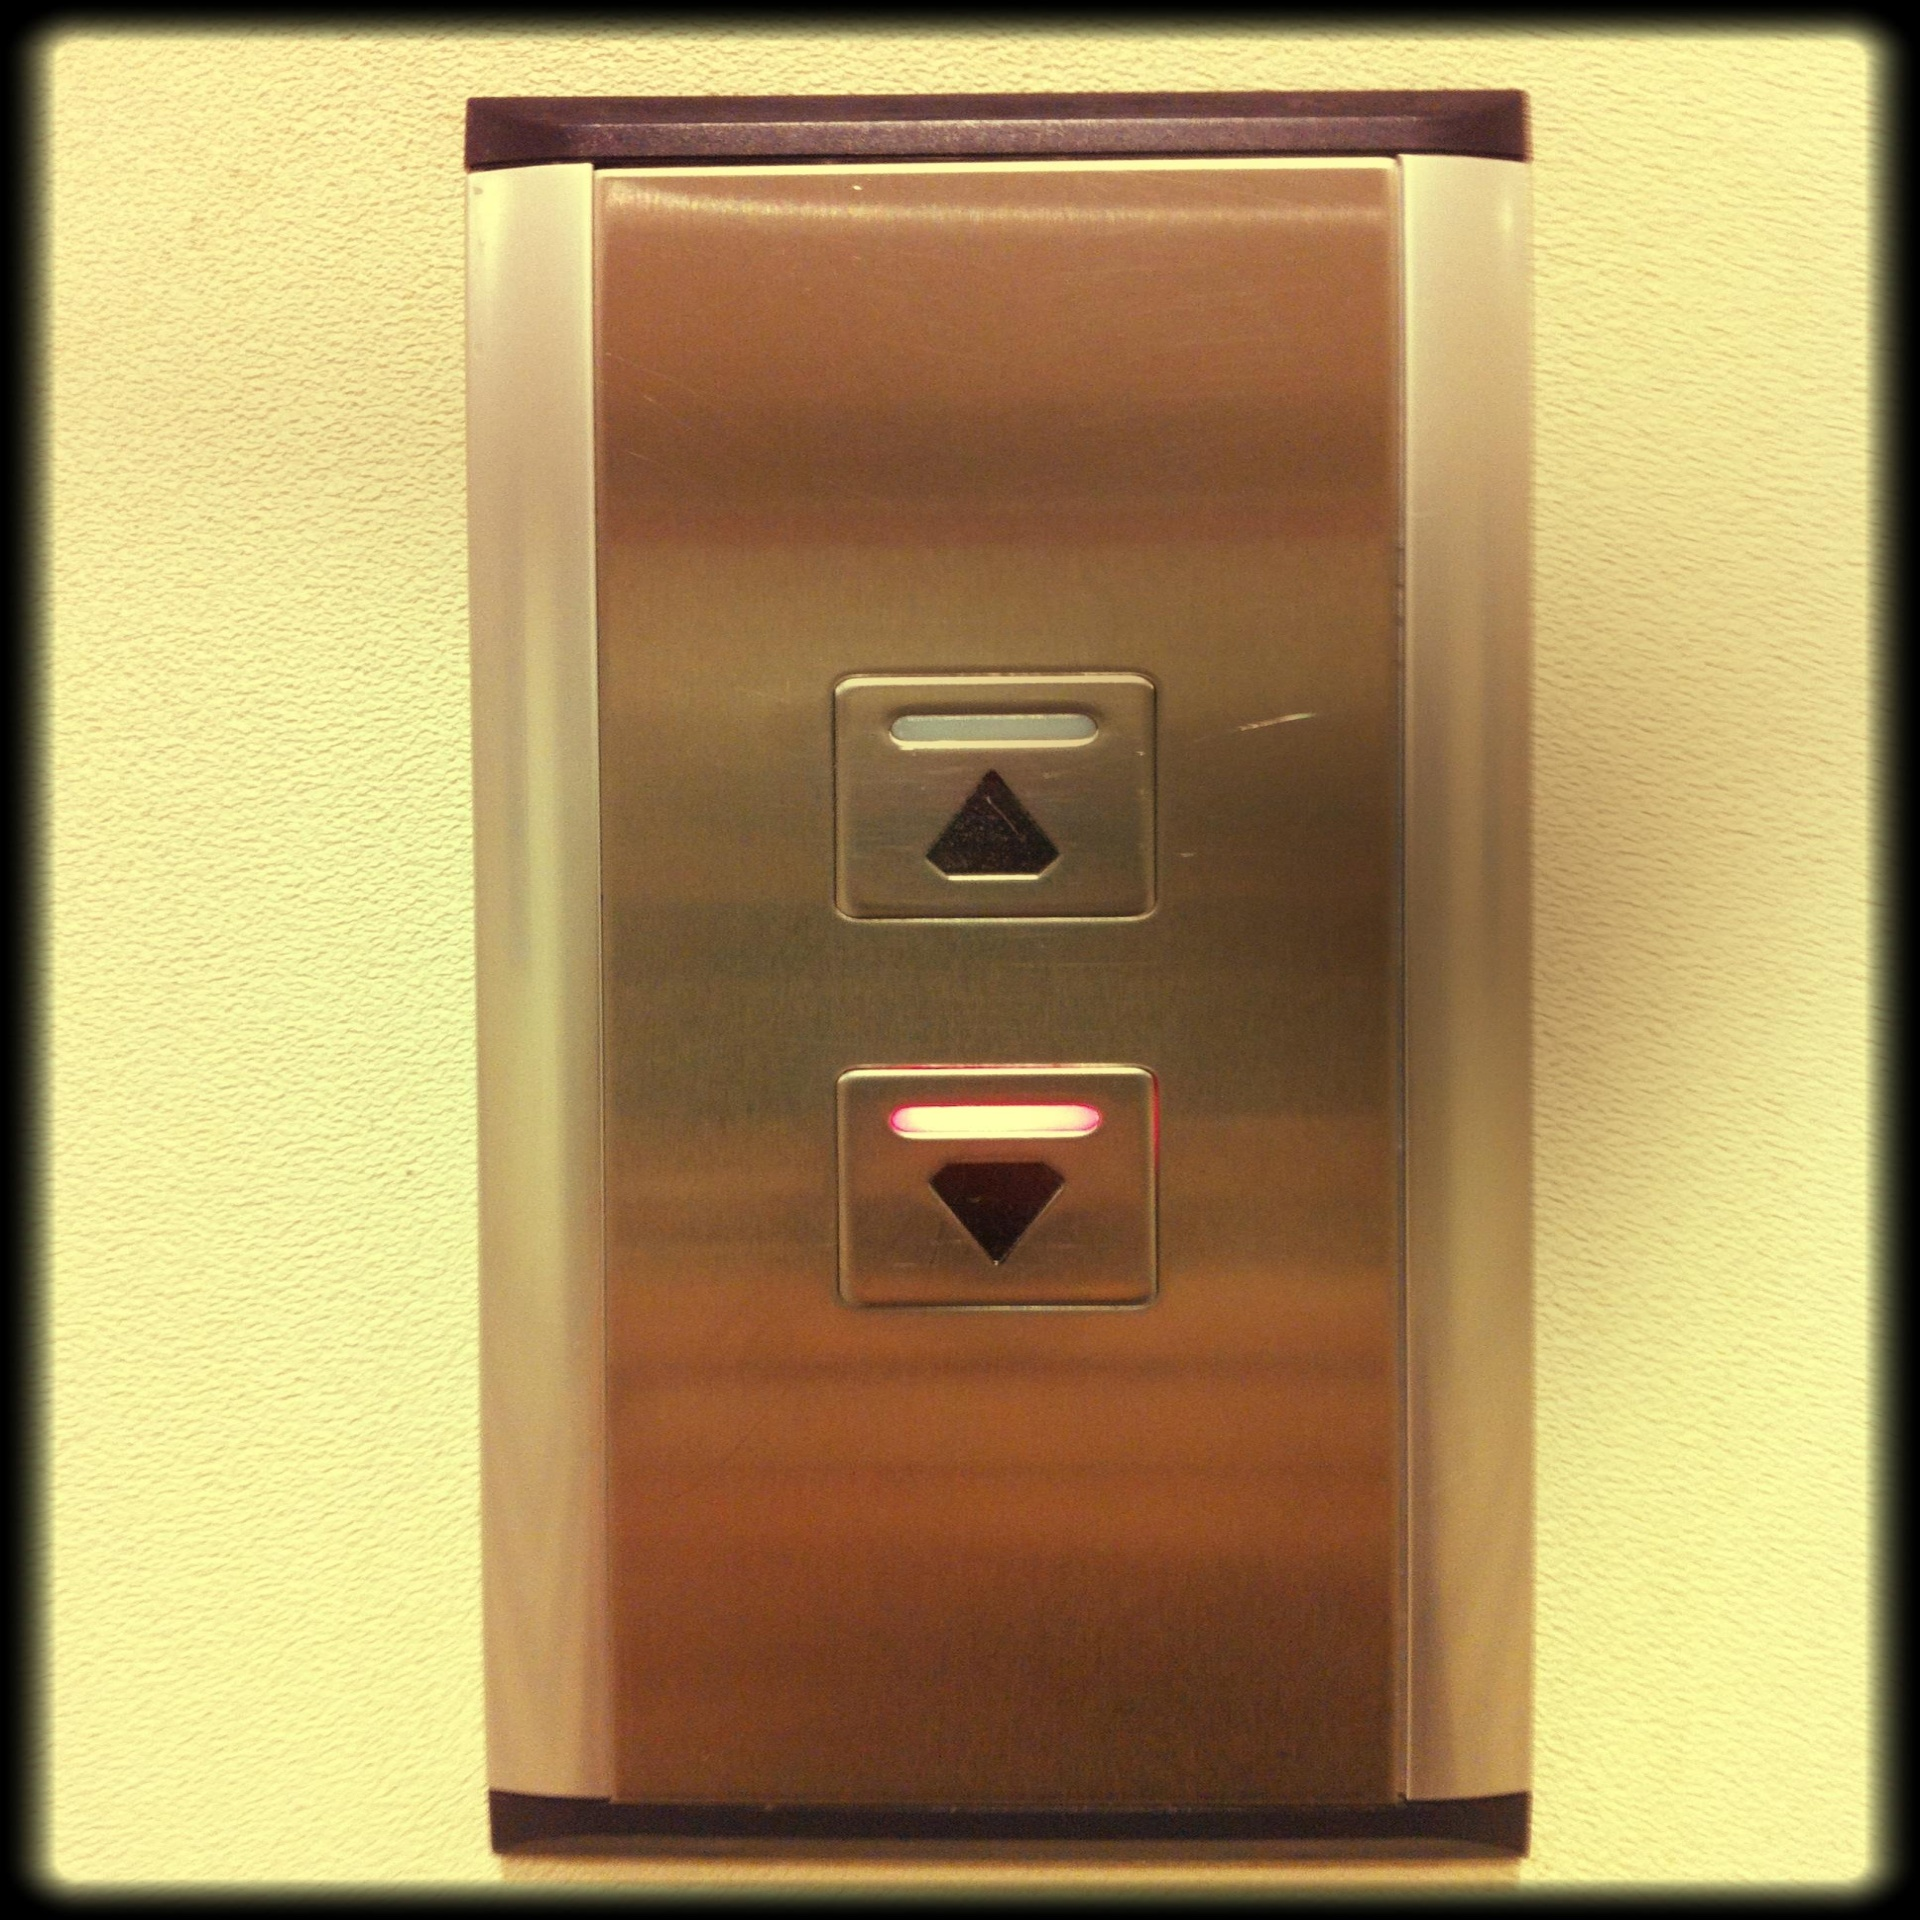down: (828, 1055, 1166, 1313)
up: (823, 663, 1162, 932)
